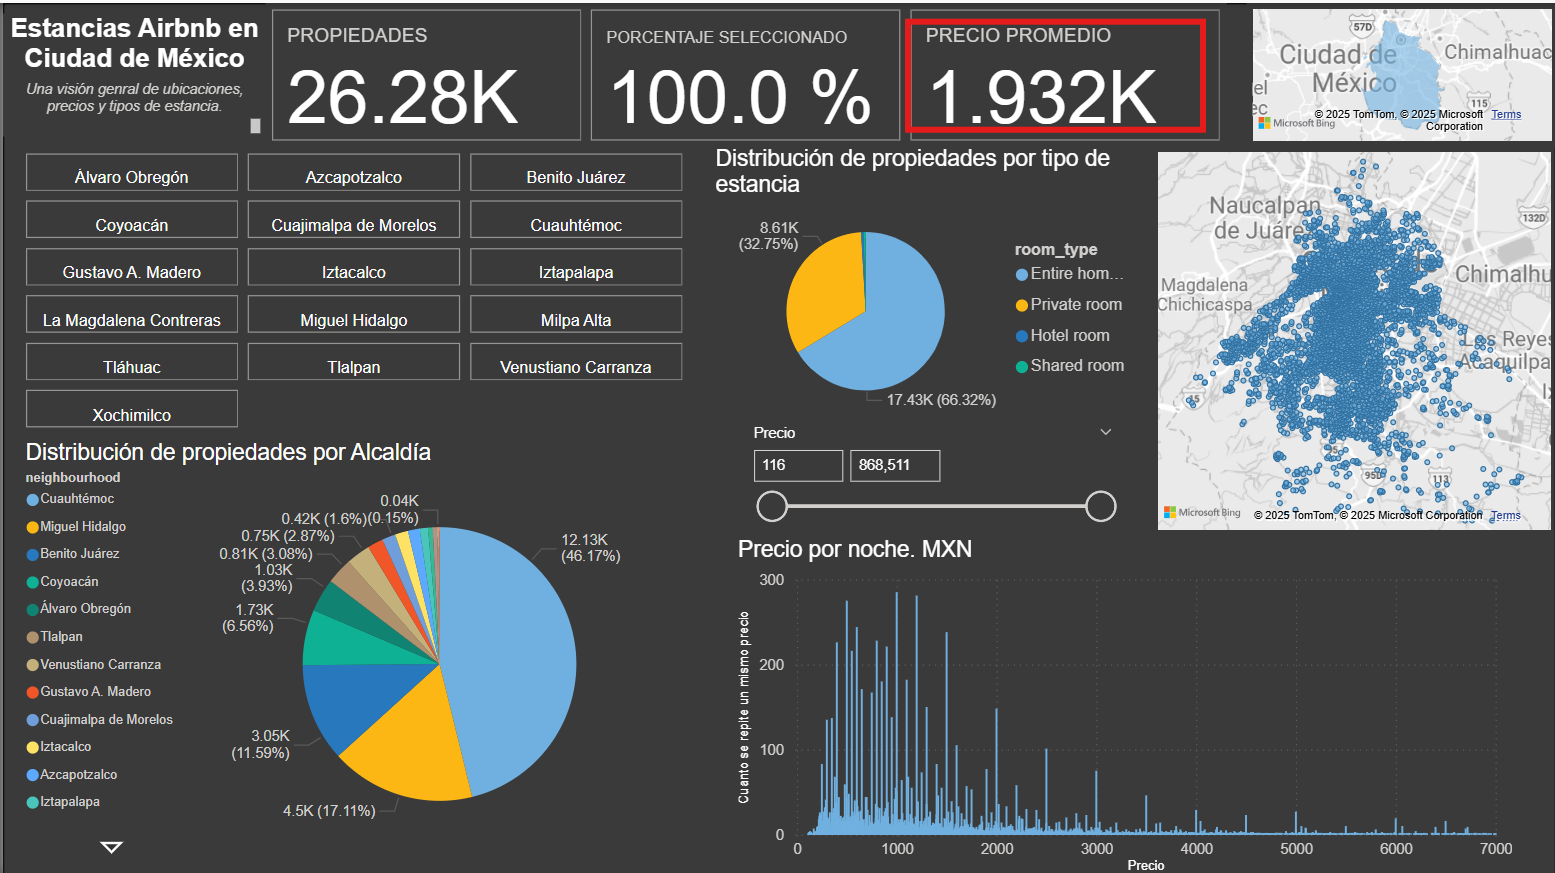

The dashboard page shown, as its layout file describes it:
{"tool":"powerbi","page":{"name":"Dashboard","canvas":[1280,720],"ordinal":0},"visuals":[{"type":"advancedSlicerVisual","fields":{"Values":["Sheet1.neighbourhood"]},"box":[13.7,118,553,241.5],"z":0},{"type":"map","fields":{"Y":["Sheet1.latitude"],"X":["Sheet1.longitude"]},"box":[946.2,117.6,333.9,321.7],"z":1000},{"type":"filledMap","fields":{"Category":["Sheet1.Mapa_Alcaldia"]},"box":[1024.4,0,256.4,118.6],"z":2000},{"type":"pieChart","title":"Distribución de propiedades por Alcaldía","fields":{"Category":["Sheet1.neighbourhood"],"Y":["CountNonNull(Sheet1.neighbourhood)"]},"box":[13.7,359.5,553,348.6],"z":3000},{"type":"cardVisual","title":"propiedades","fields":{"Data":["Sheet1.TOTAL PROPIEDADES","Sheet1.PercentageSelected","Sheet1.PROMEDIO PRECIOS"]},"box":[216.7,0,791.7,118.3],"z":4000},{"type":"pieChart","title":"Distribución de propiedades por tipo de estancia","fields":{"Category":["Sheet1.room_type"],"Y":["CountNonNull(Sheet1.room_type)"]},"box":[582.6,117.6,363.6,231.1],"z":5000},{"type":"textbox","title":"Estancias Airbnb en Ciudad de México","box":[0,8.2,216.8,101.6],"z":6000},{"type":"columnChart","title":"Precio por noche. MXN","fields":{"Category":["Sheet1.price"],"Y":["CountNonNull(Sheet1.price)"]},"box":[600.2,439.3,647.5,281.2],"z":7000},{"type":"slicer","fields":{"Values":["Sheet1.price"]},"box":[605.6,342,320.4,97.3],"z":8000}]}

Visuals, with their boxes in screenshot pixels (x1, y1, x2, y2), scaled from the page's 1280x720 canvas onto the 1555x873 screenshot:
advancedSlicerVisual - Sheet1.neighbourhood: [17, 143, 688, 436]
map - Sheet1.latitude x Sheet1.longitude: [1149, 143, 1554, 533]
filledMap - Sheet1.Mapa_Alcaldia: [1244, 0, 1554, 144]
"Distribución de propiedades por Alcaldía" pieChart: [17, 436, 688, 859]
"propiedades" cardVisual: [263, 0, 1225, 143]
"Distribución de propiedades por tipo de estancia" pieChart: [708, 143, 1149, 423]
"Estancias Airbnb en Ciudad de México" textbox: [0, 10, 263, 133]
"Precio por noche. MXN" columnChart: [729, 533, 1516, 872]
slicer - Sheet1.price: [736, 415, 1125, 533]
